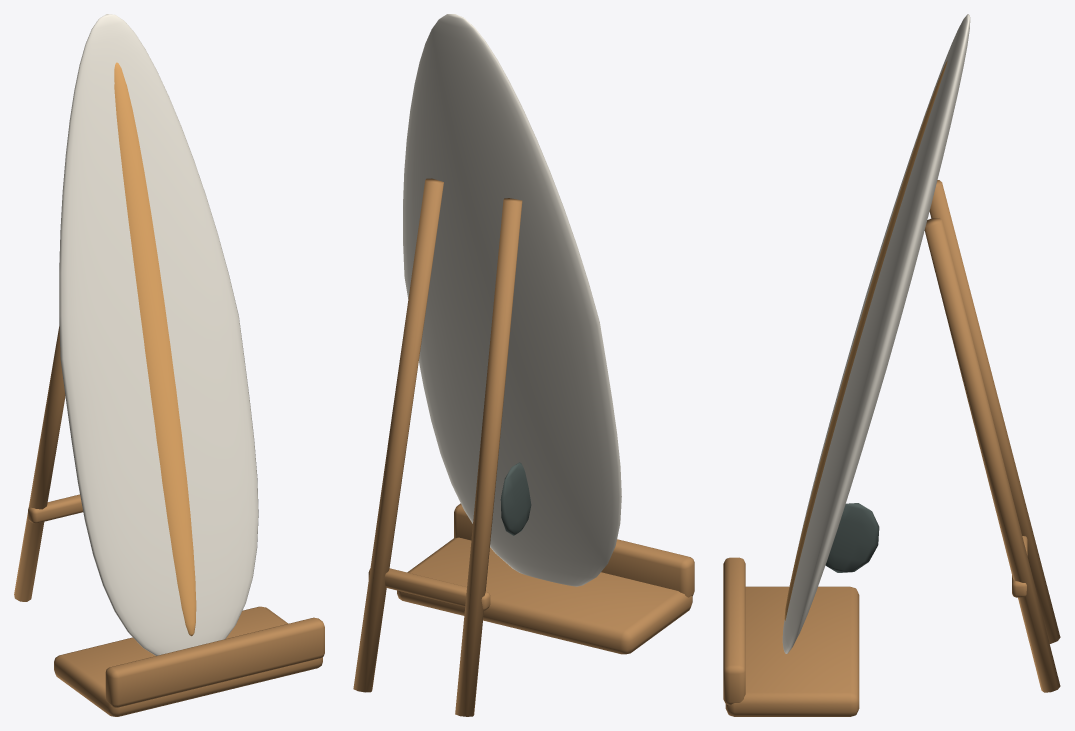
The model's file is surfboard.glb.
The picture shows the model from 3 angles, left to right: view 1: azimuth 30°, elevation 25°; view 2: azimuth 150°, elevation 25°; view 3: azimuth 270°, elevation 25°; orthographic projection. The views are drawn at different scales.
Visible parts, largest first — view 1: board, stand; view 2: board, stand; view 3: stand, board.
Boxes of the visible parts, box(x1,y1,x2,y2) form: board: box(59, 14, 258, 655); stand: box(14, 326, 324, 716); board: box(403, 14, 621, 586); stand: box(353, 178, 694, 716); stand: box(723, 180, 1060, 716); board: box(782, 14, 970, 653).
Size of the model in its own units: 0.6 by 1.61 by 0.7564.
